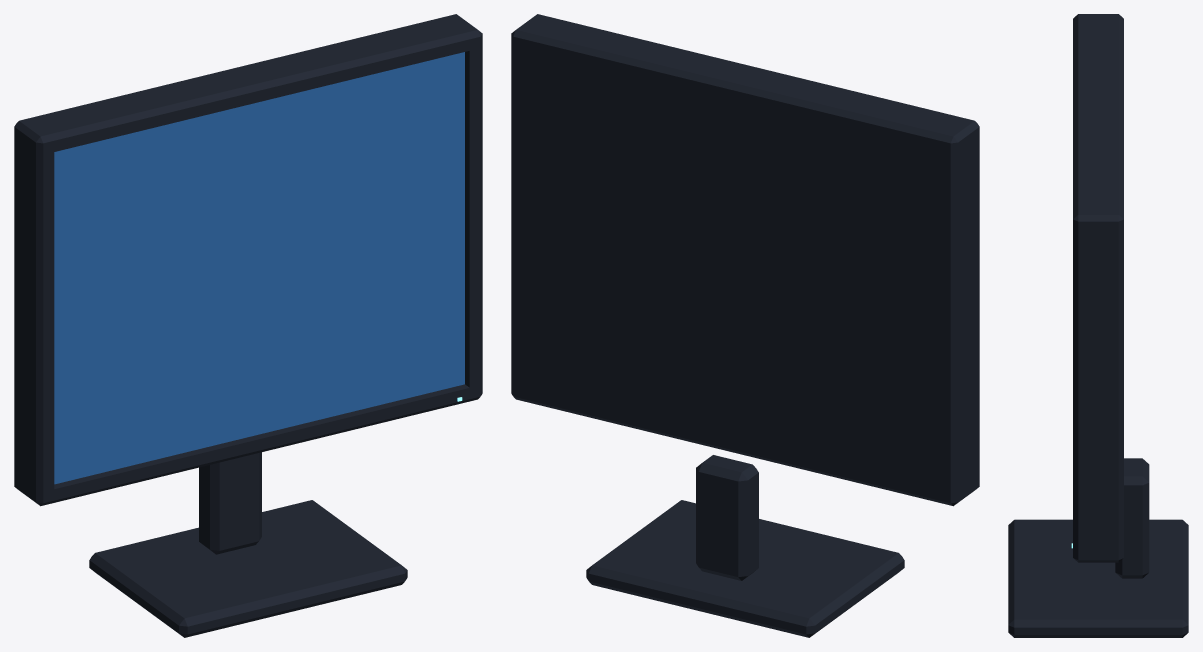
Rendered from monitor_old.glb.
3 renders of one model, left to right at view 1: azimuth 30°, elevation 25°; view 2: azimuth 150°, elevation 25°; view 3: azimuth 270°, elevation 25°, orthographic. The views are drawn at different scales.
Visible parts, largest first — view 1: SCREEN, frame, base, neck; view 2: frame, base, neck; view 3: frame, base, neck.
Part boxes in pixels (box(x1,y1,x2,y2)): SCREEN: box(54, 52, 464, 484); frame: box(14, 14, 482, 506); base: box(89, 500, 407, 637); neck: box(199, 452, 261, 554); frame: box(511, 14, 979, 506); base: box(586, 500, 904, 637); neck: box(696, 455, 758, 580); frame: box(1073, 14, 1123, 562); base: box(1008, 519, 1188, 637); neck: box(1115, 458, 1149, 578).
Size of the model in its own units: 0.43 by 0.463 by 0.16.
